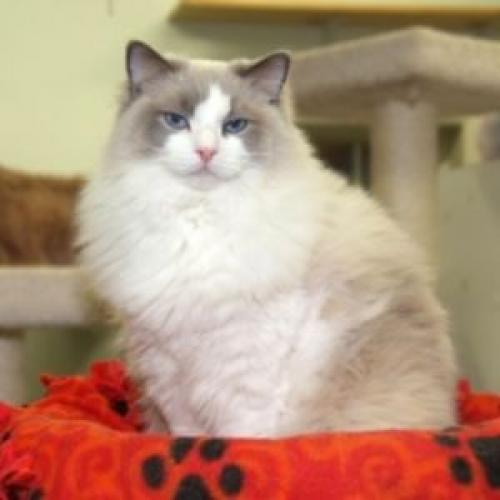ragdoll: (102, 30, 302, 205)
